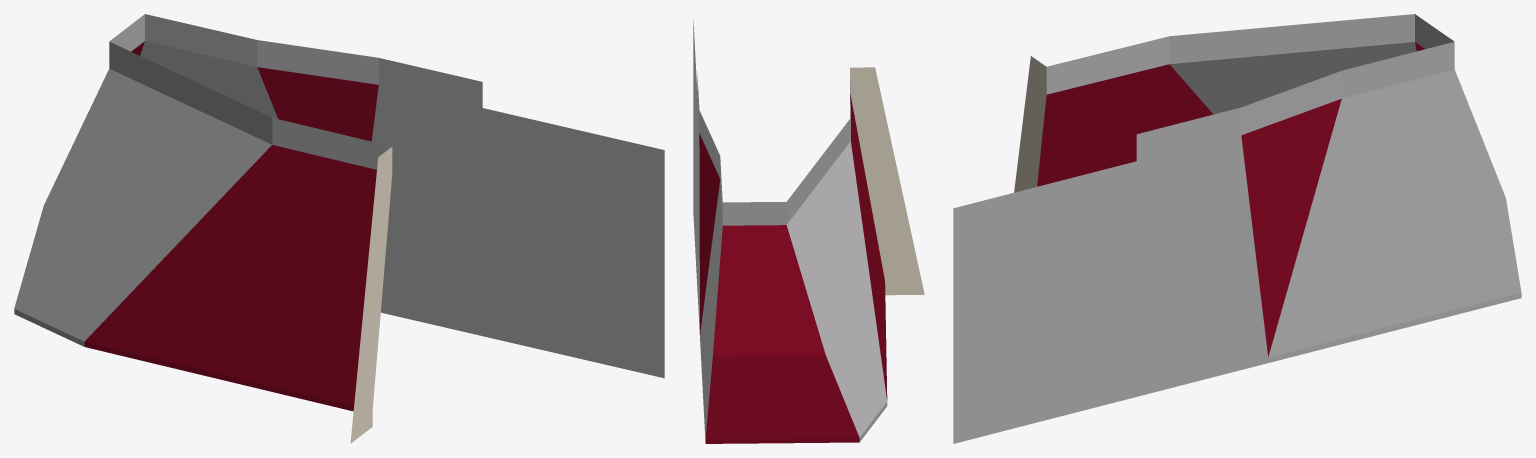
Rendered from e5230e1b-0345-4195-9f18-95cad10e8c94.obj.
3 renders of one model, left to right at view 1: azimuth 30°, elevation 25°; view 2: azimuth 150°, elevation 25°; view 3: azimuth 270°, elevation 25°, orthographic. The views are drawn at different scales.
Visible parts, largest first — view 1: Mesh1 Model; view 2: Mesh1 Model; view 3: Mesh1 Model.
Part boxes in pixels (box(x1,y1,x2,y2)): Mesh1 Model: box(14, 14, 664, 443); Mesh1 Model: box(693, 20, 924, 443); Mesh1 Model: box(953, 14, 1521, 443).
Bounding box in the file's own units: 8.16 × 4.9 × 9.21.
